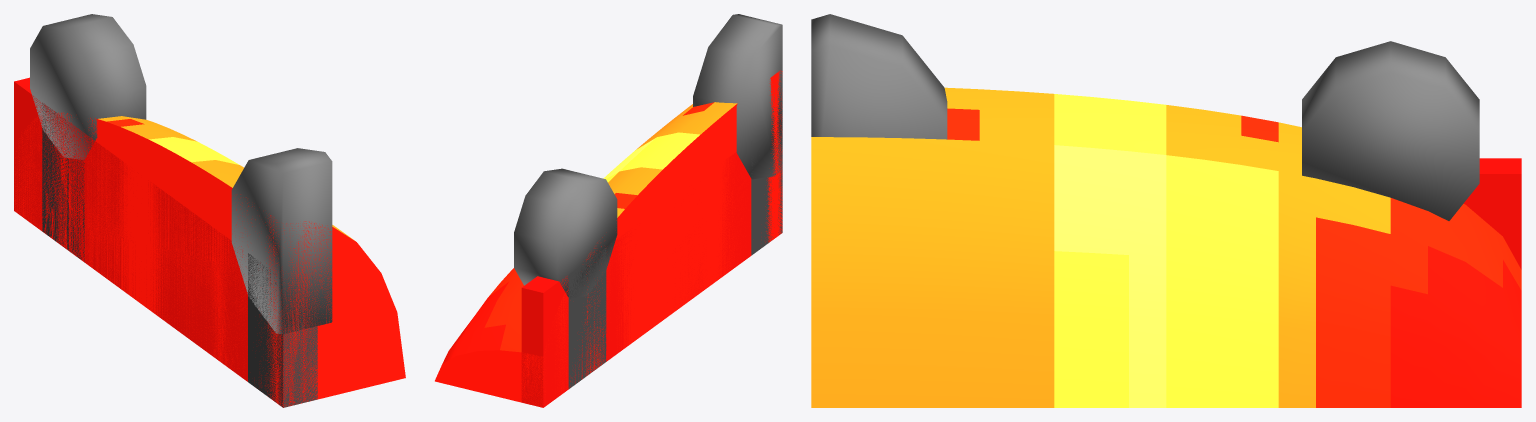
The model's file is newsha-231-f3.glb.
3 views of the same model, side by side, from view 1: azimuth 30°, elevation 25°; view 2: azimuth 150°, elevation 25°; view 3: azimuth 270°, elevation 25° (orthographic). The views are drawn at different scales.
Visible parts, largest first — view 1: newsha-231-f3; view 2: newsha-231-f3; view 3: newsha-231-f3.
Boxes of the visible parts, x1,y1,x2,y2 form: newsha-231-f3: [14, 14, 405, 407]; newsha-231-f3: [435, 14, 782, 407]; newsha-231-f3: [811, 14, 1521, 407].
Bounding box in the file's own units: 0.4167 × 0.775 × 1.58.
